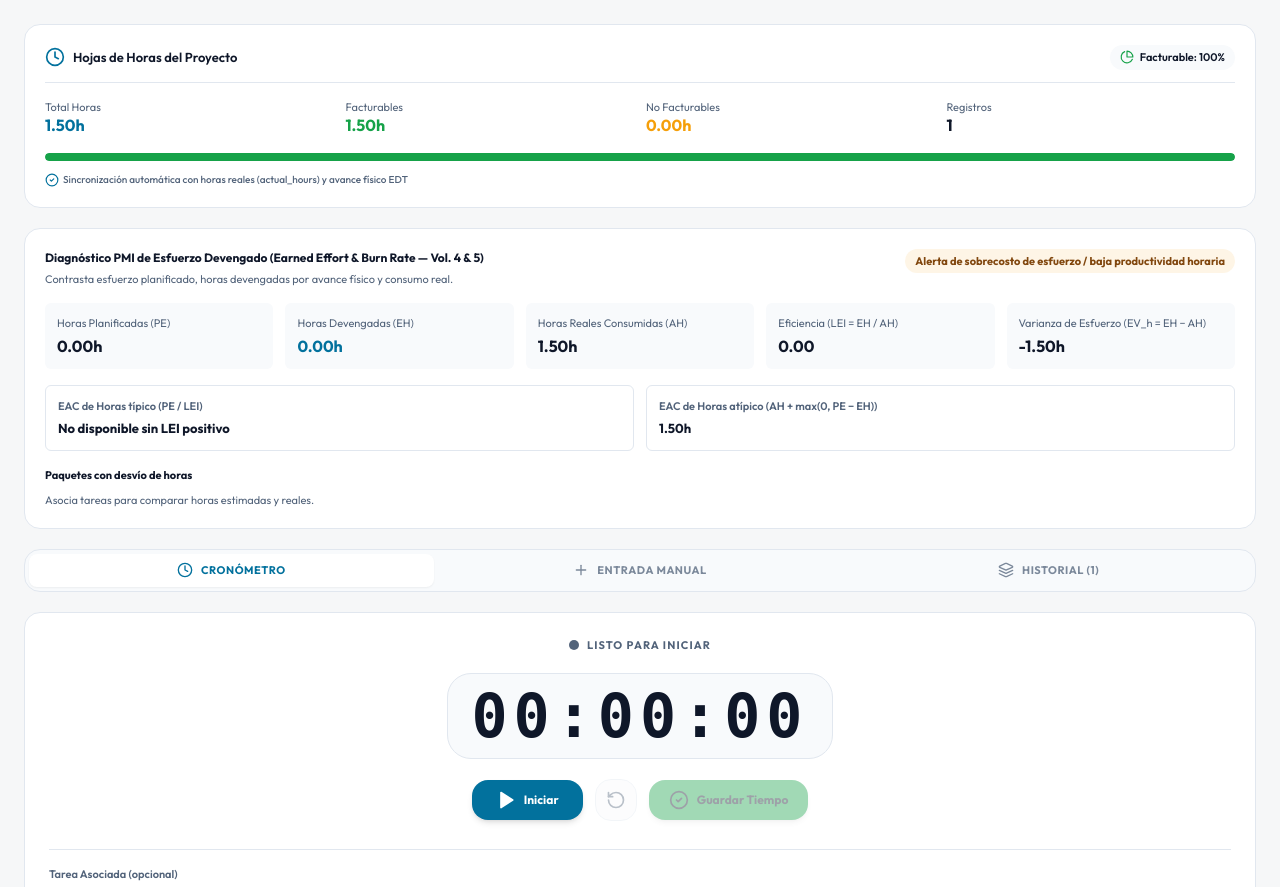
Test case: ProjectTimeTrackingDrawer delete confirmation › displays EDT synchronization notice and task hours breakdown in summary view
Check: the text "Sincronización automática con horas reales (actual_hours) y avance físico EDT" is shown, box top-left (45, 173), bottom-right (408, 187)
Click the button "Historial (1)": [1049, 570] box top-left (846, 554), bottom-right (1251, 587)
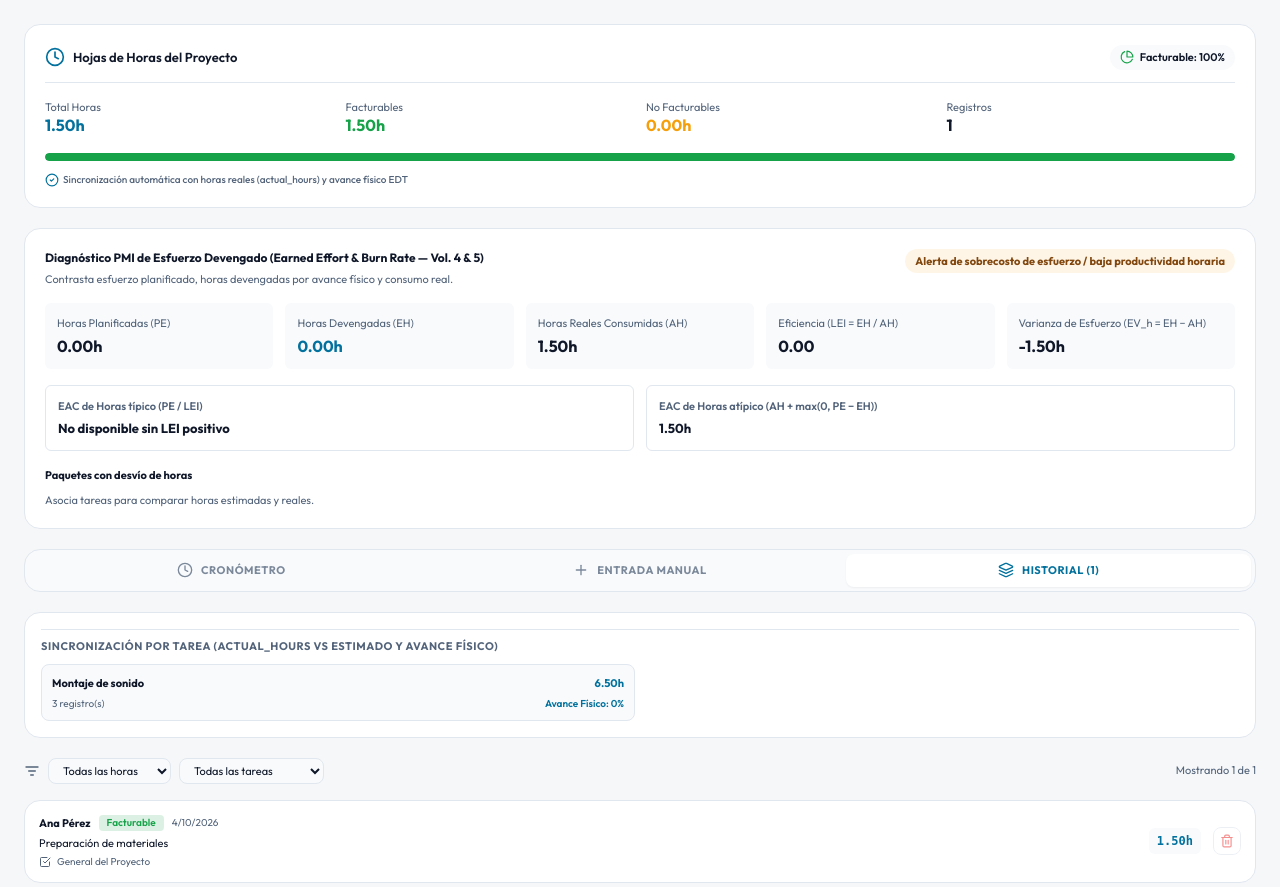
Check: the text "Sincronización por Tarea (actual_hours vs Estimado y Avance Físico)" is shown, box top-left (41, 639), bottom-right (498, 653)
Check: the text "Montaje de sonido" is shown, box top-left (52, 675), bottom-right (144, 692)
Check: the text "6.50h" is shown, box top-left (595, 675), bottom-right (624, 692)
